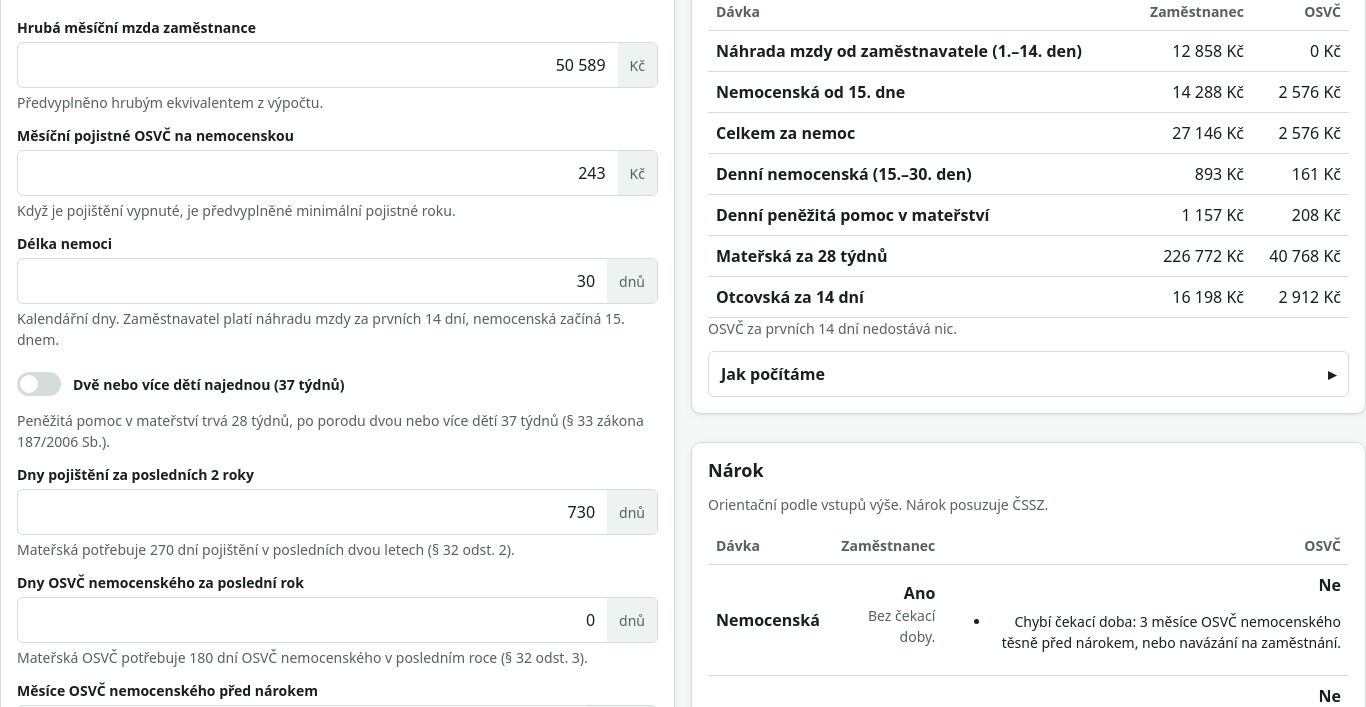
BenefitsScreen › switches the maternity weeks to 37 for a multiple birth
The image size is (1366, 707).
(page scrolled)
Expected: the row "Mateřská za 28 týdnů 226 772 Kč 40 768 Kč" is shown, [708, 236, 1349, 276]
Click the switch labelled "Dvě nebo více dětí najednou (37 týdnů)" at (39, 384), box [17, 372, 61, 396]
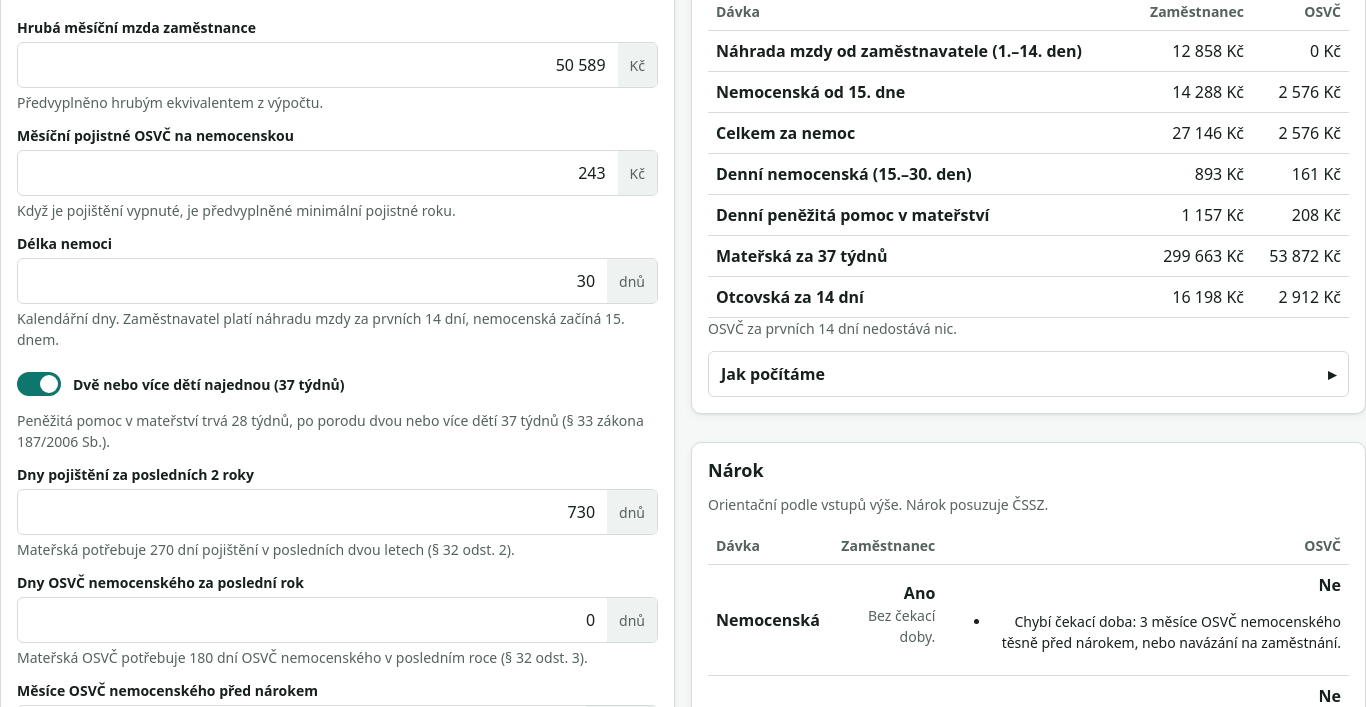
Expected: the row "Mateřská za 37 týdnů 299 663 Kč 53 872 Kč" is shown, [708, 236, 1349, 276]
